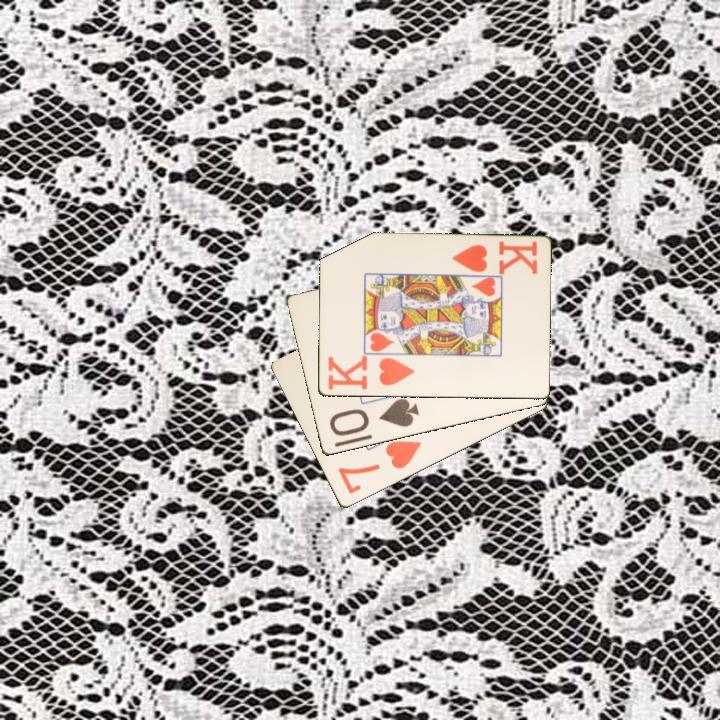10s: (326, 395, 422, 439)
7h: (334, 437, 424, 497)
Kh: (324, 354, 417, 393), (448, 238, 540, 276)
